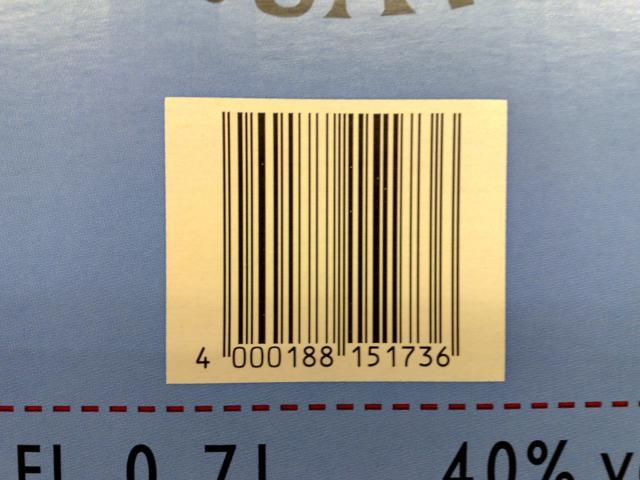Barcode: (187, 107, 471, 376)
